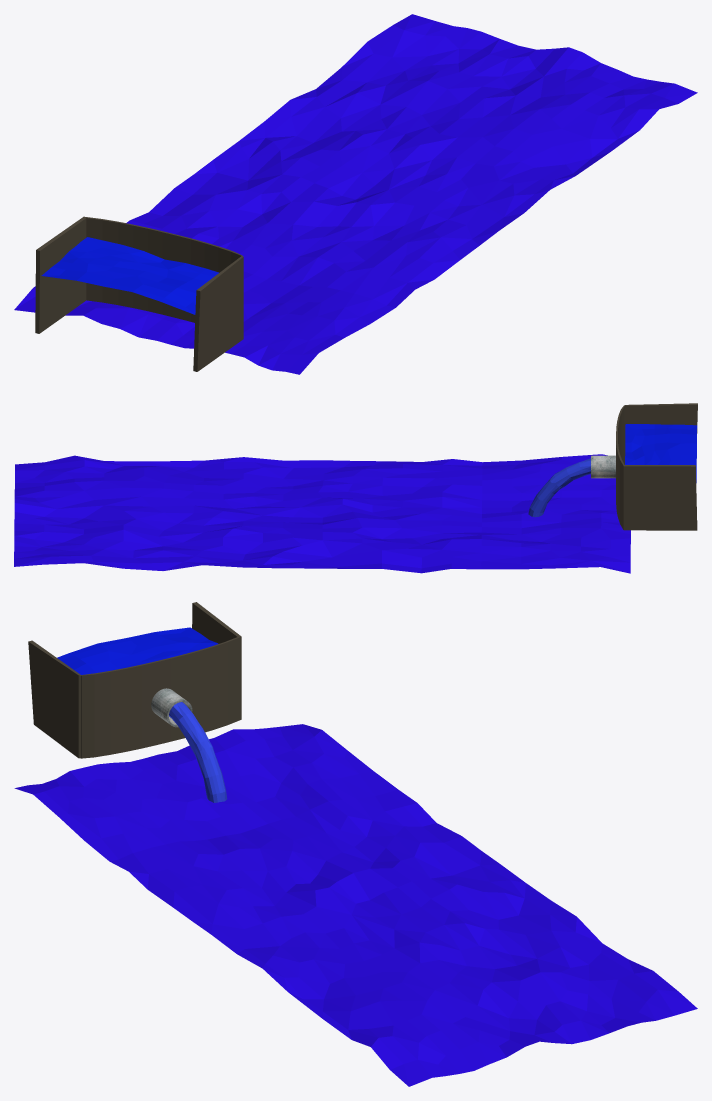
File: wateranimation.gltf
3 renders of one model, top to bottom at view 1: azimuth 30°, elevation 25°; view 2: azimuth 150°, elevation 25°; view 3: azimuth 270°, elevation 25°, orthographic. The views are drawn at different scales.
Parts seen in each view (by area): view 1: watenvelrd, tank, watentank; view 2: watenvelrd, tank, watentank, Cylinder, waterrör; view 3: watenvelrd, tank, watentank, Cylinder, waterrör.
Boxes of the visible parts, x1,y1,x2,y2 form: watenvelrd: [14, 14, 697, 374]; tank: [35, 216, 243, 371]; watentank: [41, 237, 218, 314]; watenvelrd: [14, 454, 630, 573]; tank: [616, 403, 697, 530]; watentank: [625, 424, 697, 482]; Cylinder: [528, 458, 590, 517]; waterrör: [591, 455, 615, 478]; watenvelrd: [14, 724, 697, 1086]; tank: [28, 602, 241, 758]; watentank: [57, 627, 218, 674]; Cylinder: [169, 702, 227, 802]; waterrör: [151, 688, 192, 727].
Bounding box in the file's own units: 2.48 × 0.3847 × 1.9.
5 materials, 1 textured.
